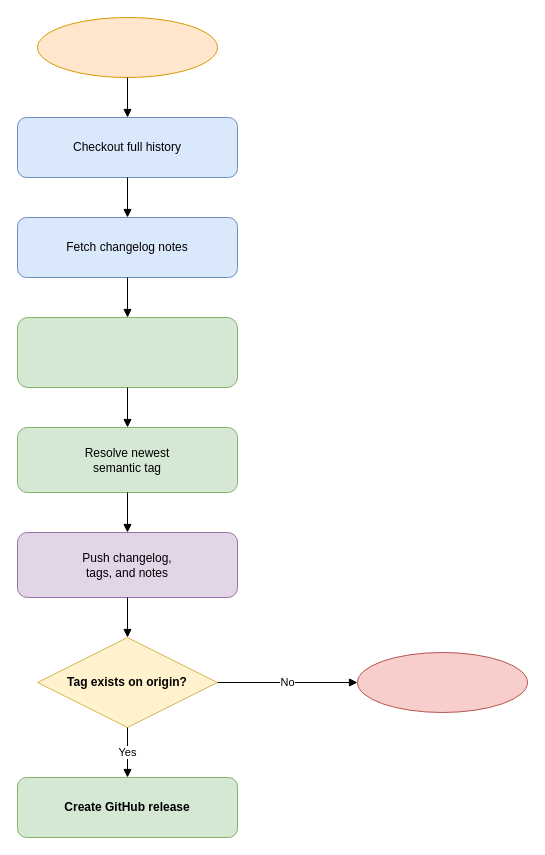
This 545x855 diagram has some shape labels left out. The shapes that lost their labels are listed below. From the top down, each one's centre as x and y in pixels, then its label:
the point at 127,47: Manual dispatch or workflow call
the point at 127,352: Generate changelog and semantic tags
the point at 442,682: Fail before publishing
